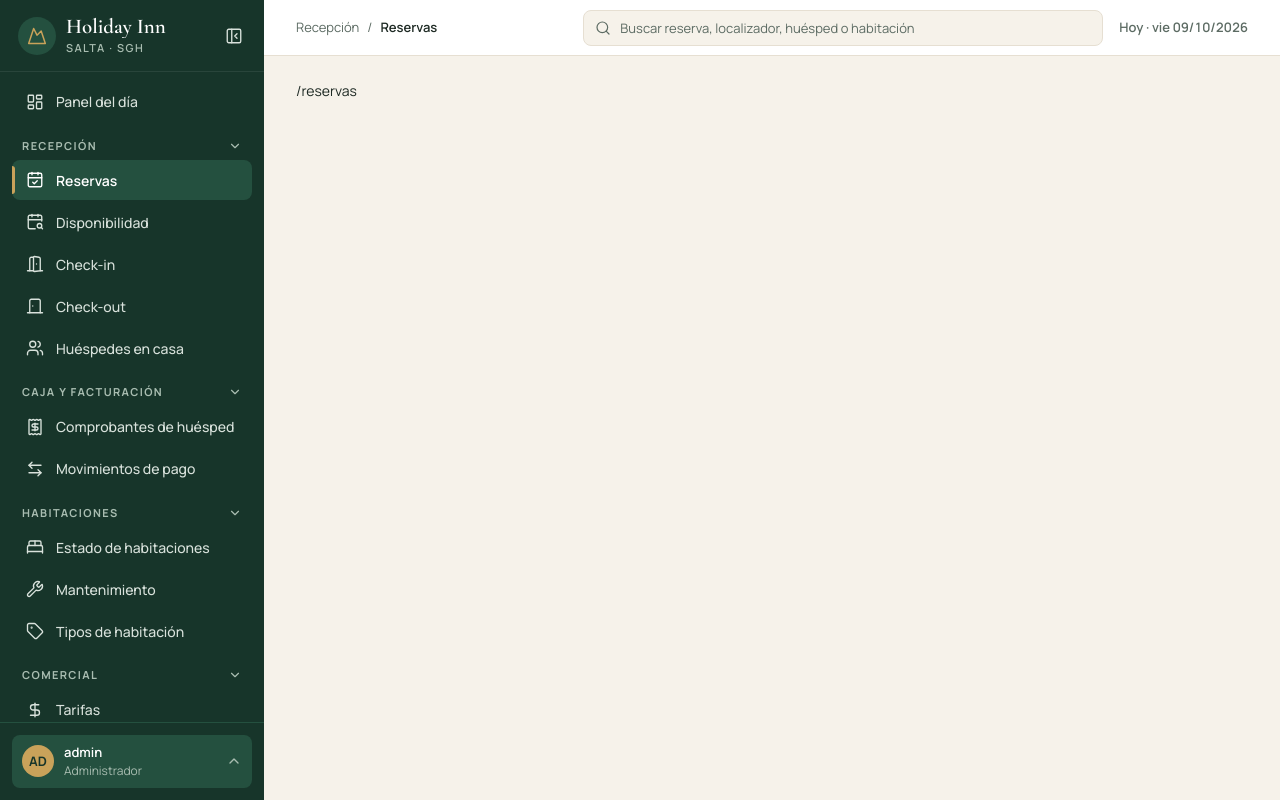
Layout — ítem activo y grupos › sin localStorage el menú funciona igual
Click the button named "Contraer menú" at (234, 36), box [218, 20, 250, 52]
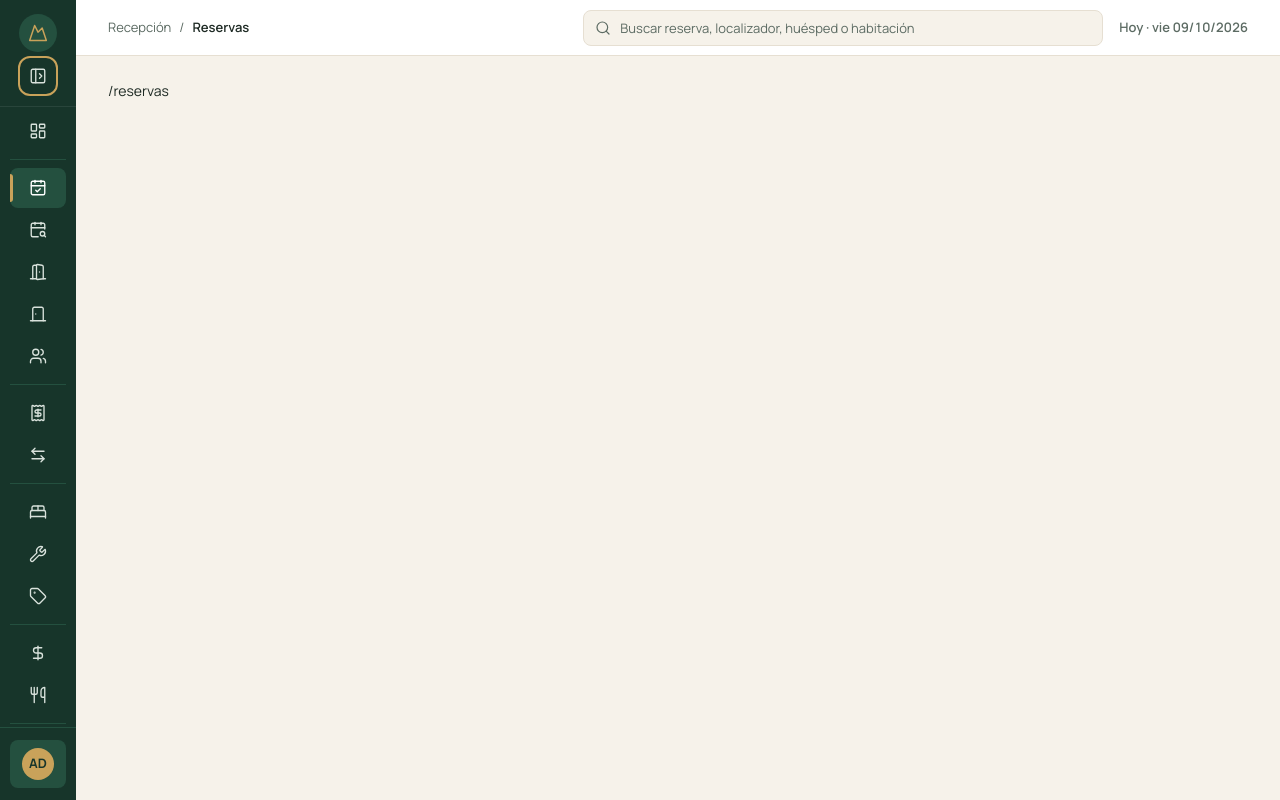
Expected: the button named "Expandir menú" is shown, [22, 60, 54, 92]
